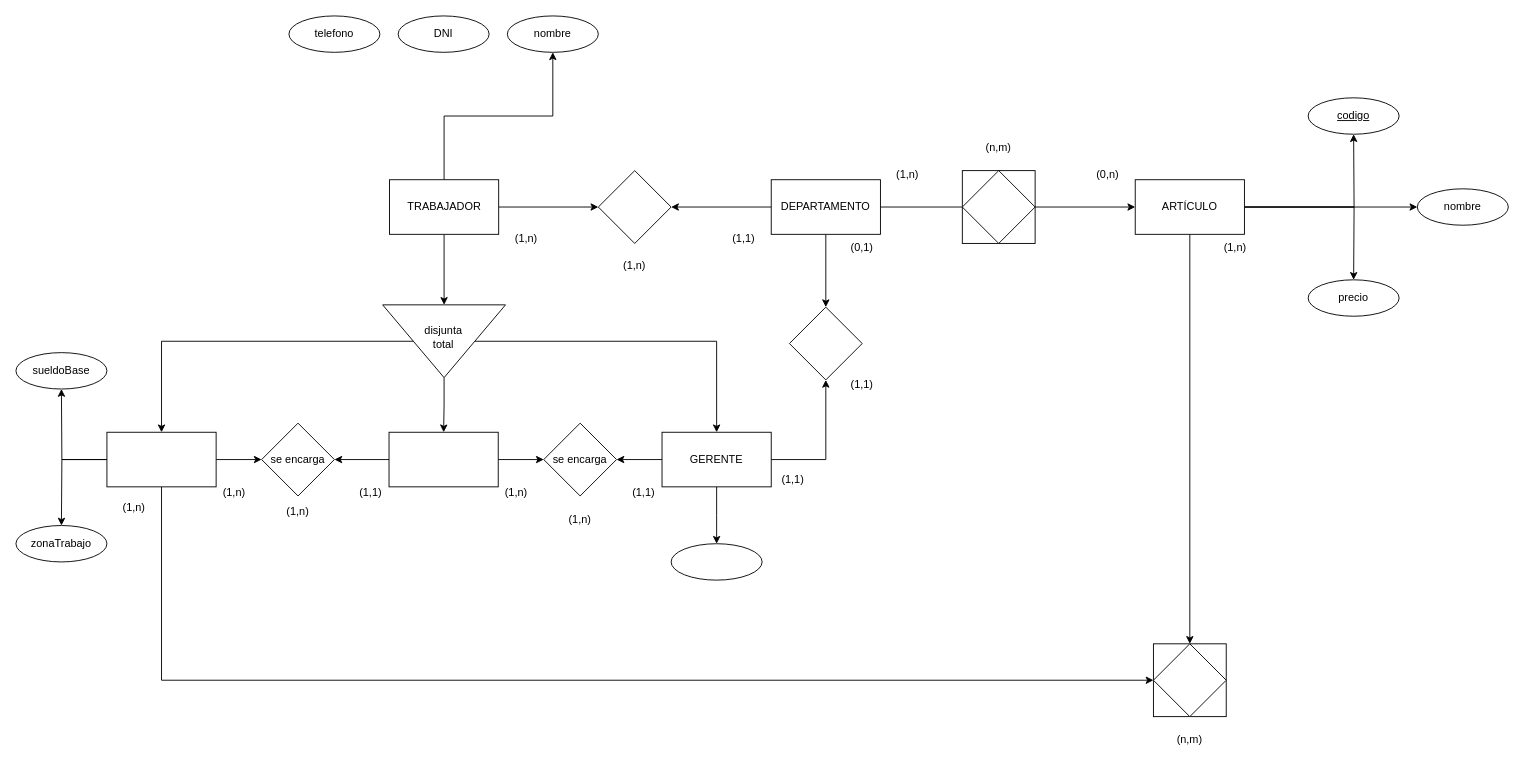
This 1524x769 diagram has some shape labels left out. Each missing label, with the centre of its shape:
"bonusAnual" belongs at [716,561].
"dirige" belongs at [825,343].
"JEFE" belongs at [443,459].
"se encuentra" belongs at [998,206].
"trabaja" belongs at [634,206].
"vende" belongs at [1189,680].
"VENDEDOR" belongs at [161,459].
